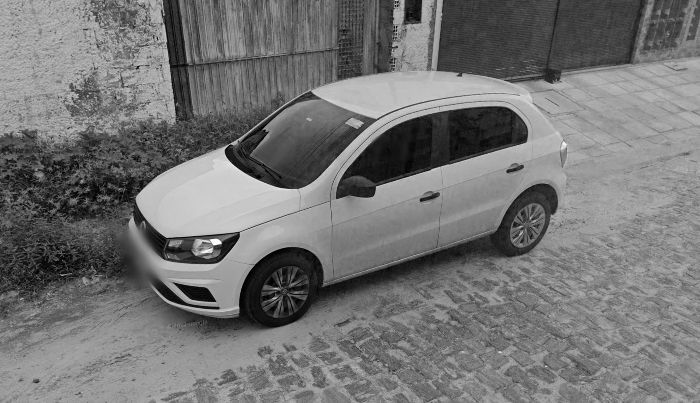car: (121, 64, 570, 328)
